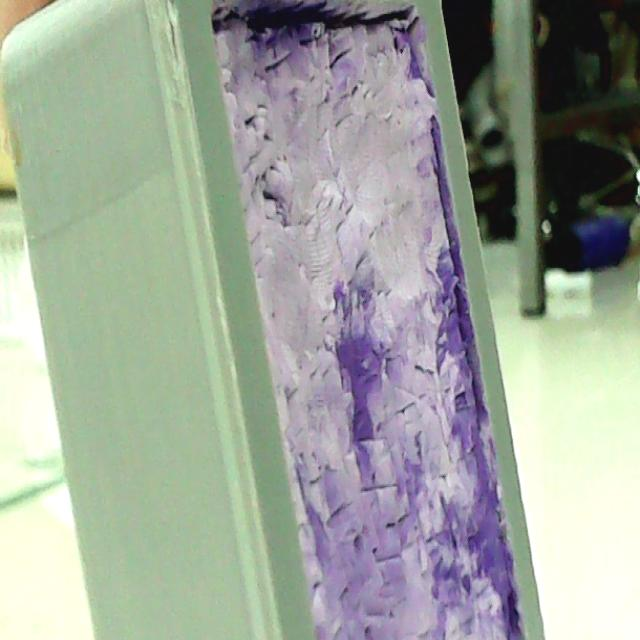block: (0, 0, 569, 640)
